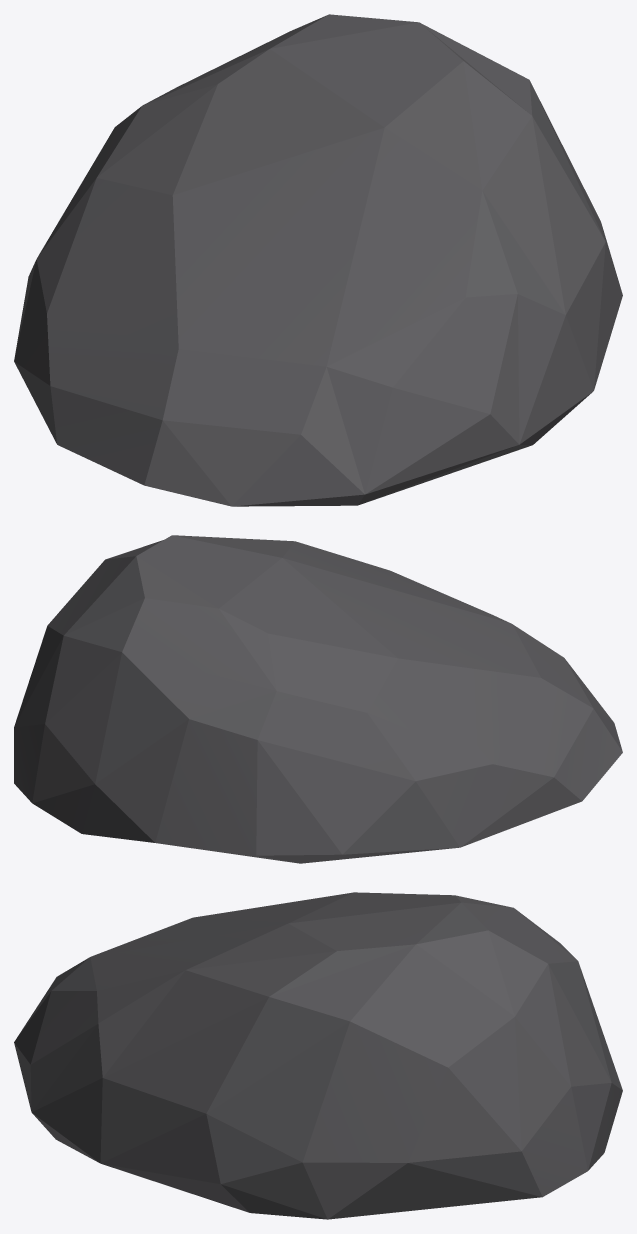
File: Piedra_01.glb
3 renders of one model, top to bottom at view 1: azimuth 30°, elevation 25°; view 2: azimuth 150°, elevation 25°; view 3: azimuth 270°, elevation 25°, orthographic. The views are drawn at different scales.
Visible parts, largest first — view 1: SM_Env_Rock_02_1; view 2: SM_Env_Rock_02_1; view 3: SM_Env_Rock_02_1.
Part boxes in pixels (box(x1,y1,x2,y2)): SM_Env_Rock_02_1: box(14, 14, 622, 506); SM_Env_Rock_02_1: box(14, 535, 622, 863); SM_Env_Rock_02_1: box(14, 892, 622, 1219).
Size of the model in its own units: 1.48 by 0.7017 by 1.51.
1 material, 1 textured.
